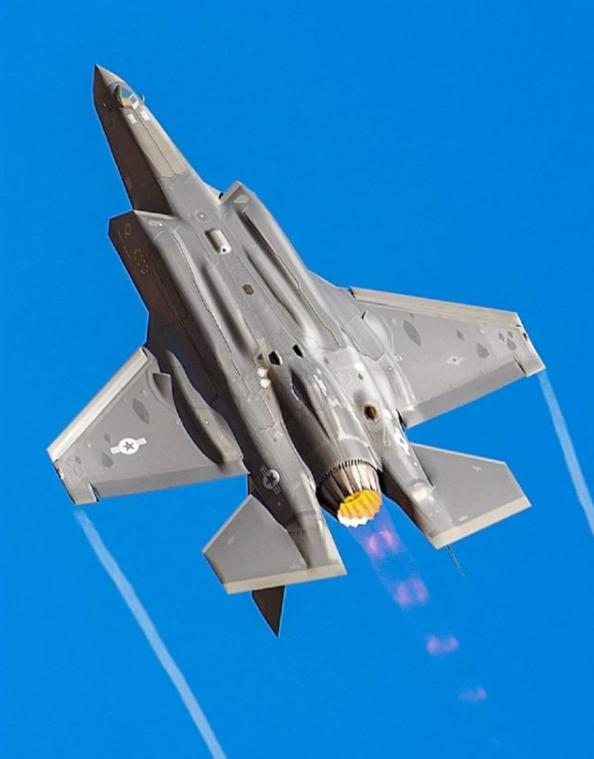airplane: (47, 55, 548, 646)
